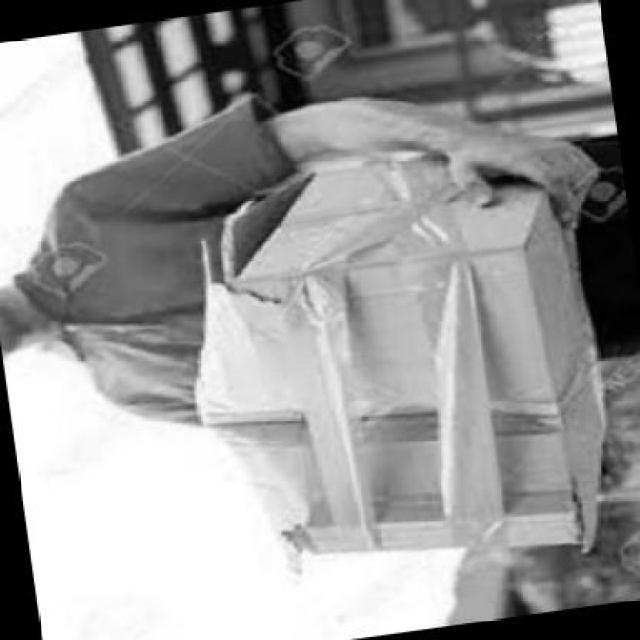box: (163, 133, 626, 601)
